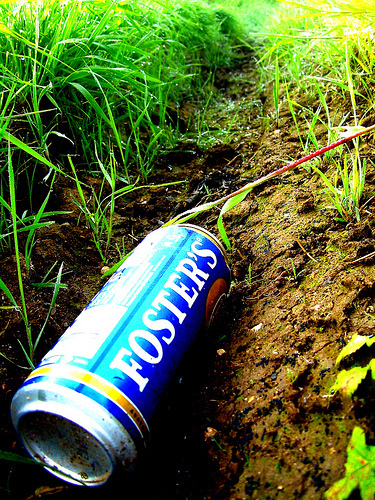litter: (7, 219, 228, 483)
